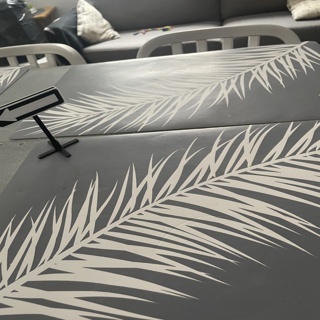sign_oneway_left: (1, 87, 57, 130)
